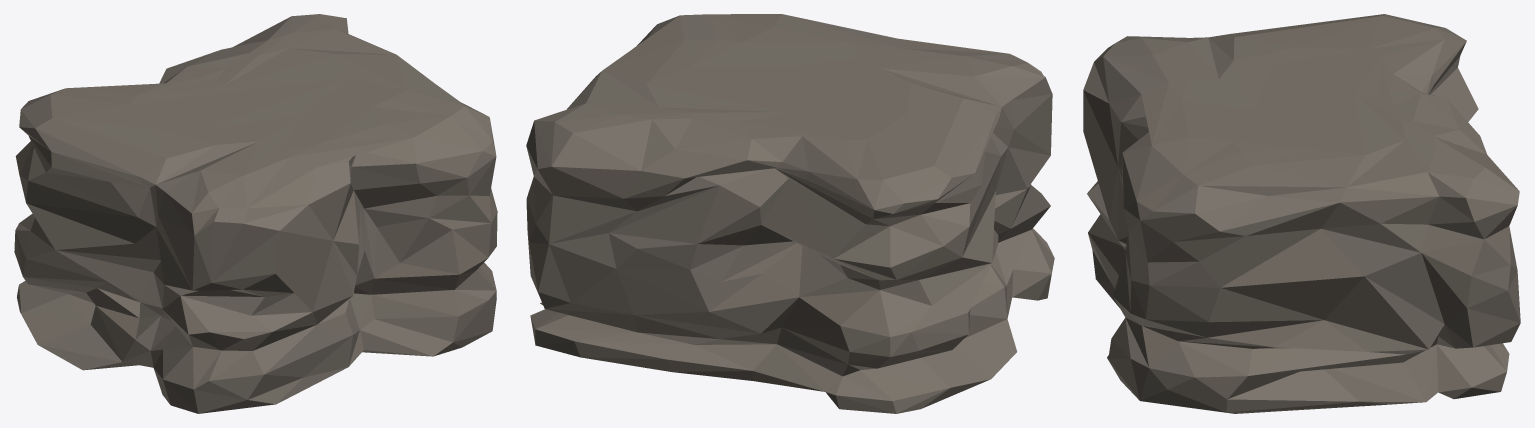
The model's file is SM_Env_Rock_Large_010.glb.
3 renders of one model, left to right at view 1: azimuth 30°, elevation 25°; view 2: azimuth 150°, elevation 25°; view 3: azimuth 270°, elevation 25°, orthographic. The views are drawn at different scales.
Visible parts, largest first — view 1: SM_Env_Rock_Large_010_part00; view 2: SM_Env_Rock_Large_010_part00; view 3: SM_Env_Rock_Large_010_part00.
Boxes of the visible parts, x1=… form: SM_Env_Rock_Large_010_part00: x1=14, y1=14, x2=497, y2=413; SM_Env_Rock_Large_010_part00: x1=526, y1=14, x2=1054, y2=413; SM_Env_Rock_Large_010_part00: x1=1083, y1=14, x2=1520, y2=413.
Size of the model in its own units: 7.7 by 4.01 by 7.1.
1 material, 1 textured.
